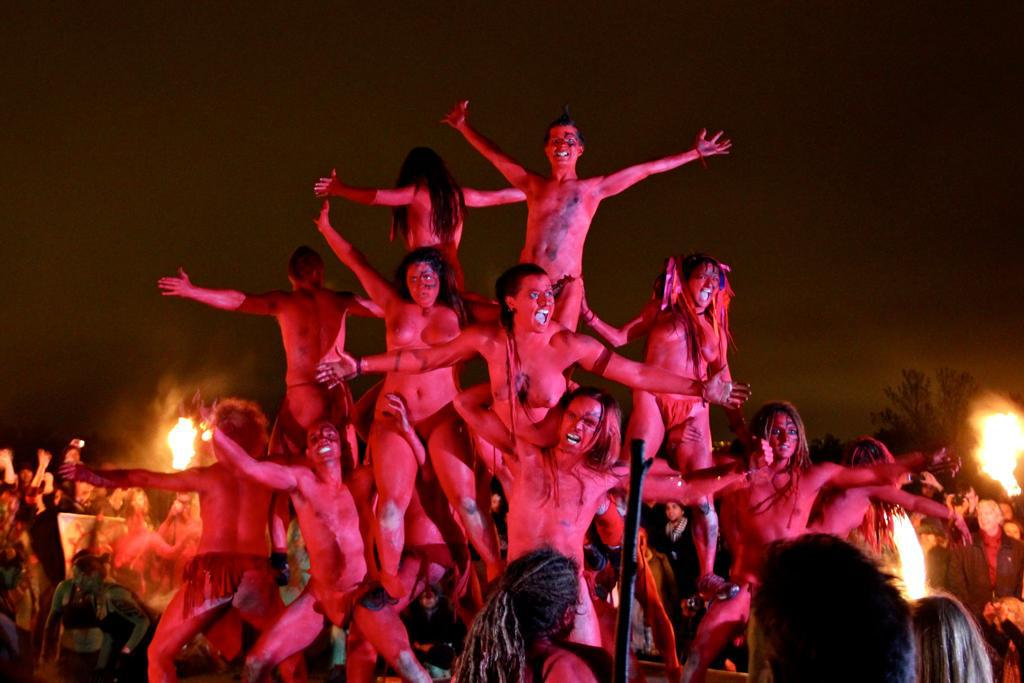face: (515, 281, 556, 333), (561, 399, 600, 453), (688, 268, 721, 310), (764, 418, 798, 458), (408, 268, 440, 306), (309, 426, 340, 462), (549, 129, 578, 166), (74, 569, 93, 595), (1, 497, 17, 523), (979, 506, 996, 530), (960, 492, 975, 513), (997, 505, 1012, 526), (129, 515, 144, 531), (666, 505, 681, 521), (922, 480, 935, 497), (55, 492, 68, 509), (1005, 525, 1019, 539), (420, 593, 435, 606), (21, 467, 33, 483)
